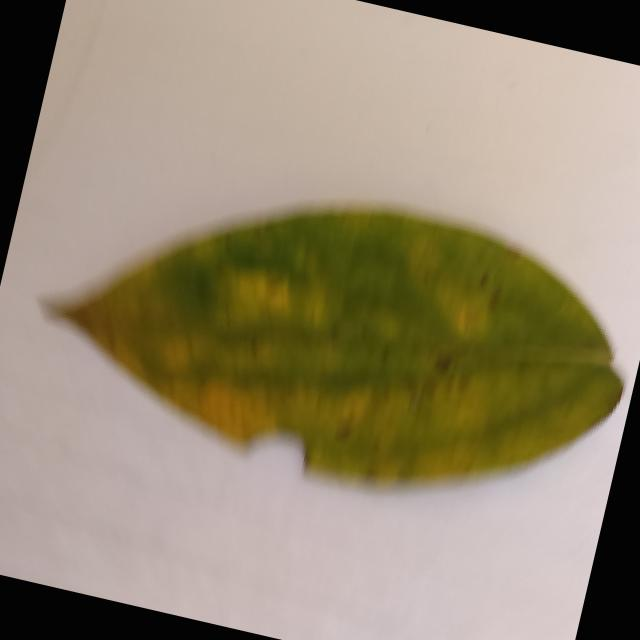slow-decline: (17, 114, 640, 544)
